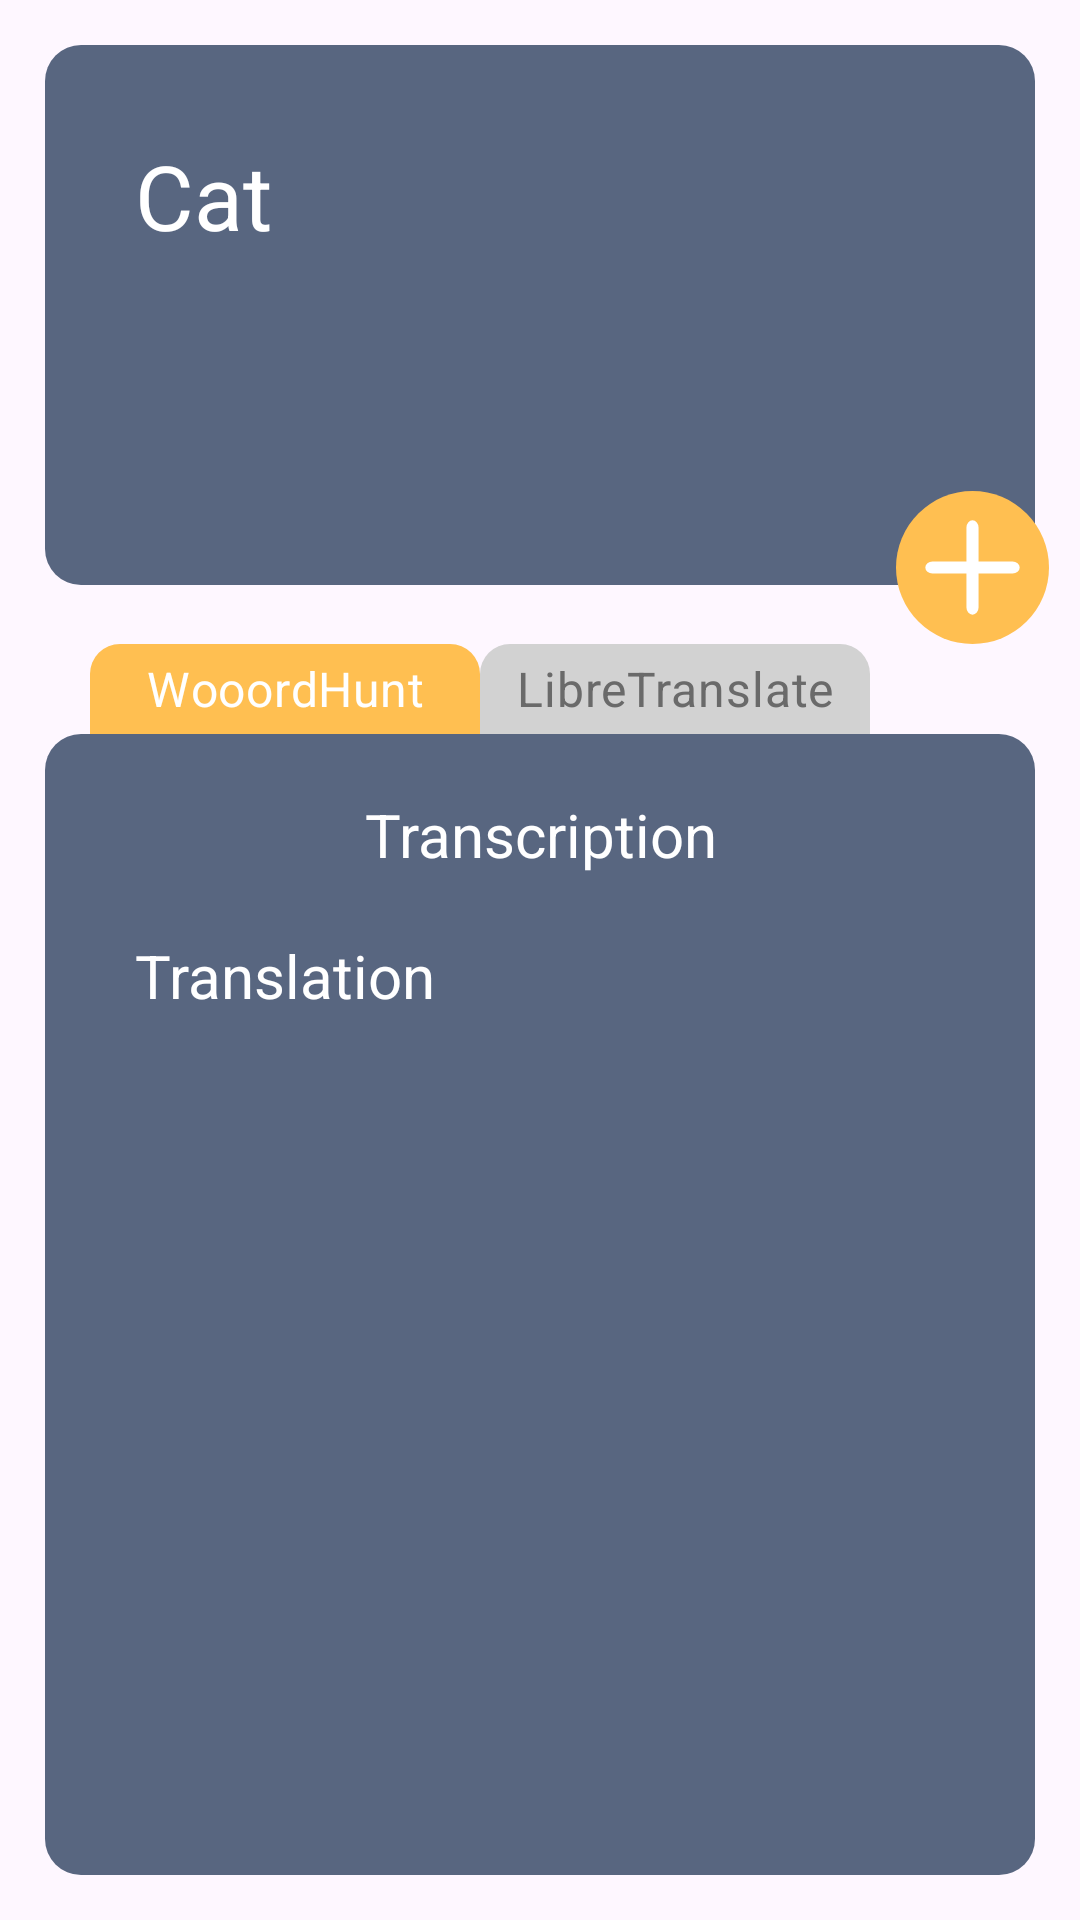

Icon click points for this 1080px×1920px phone screenshot, format point (x, y):
Add: point (972, 567)
